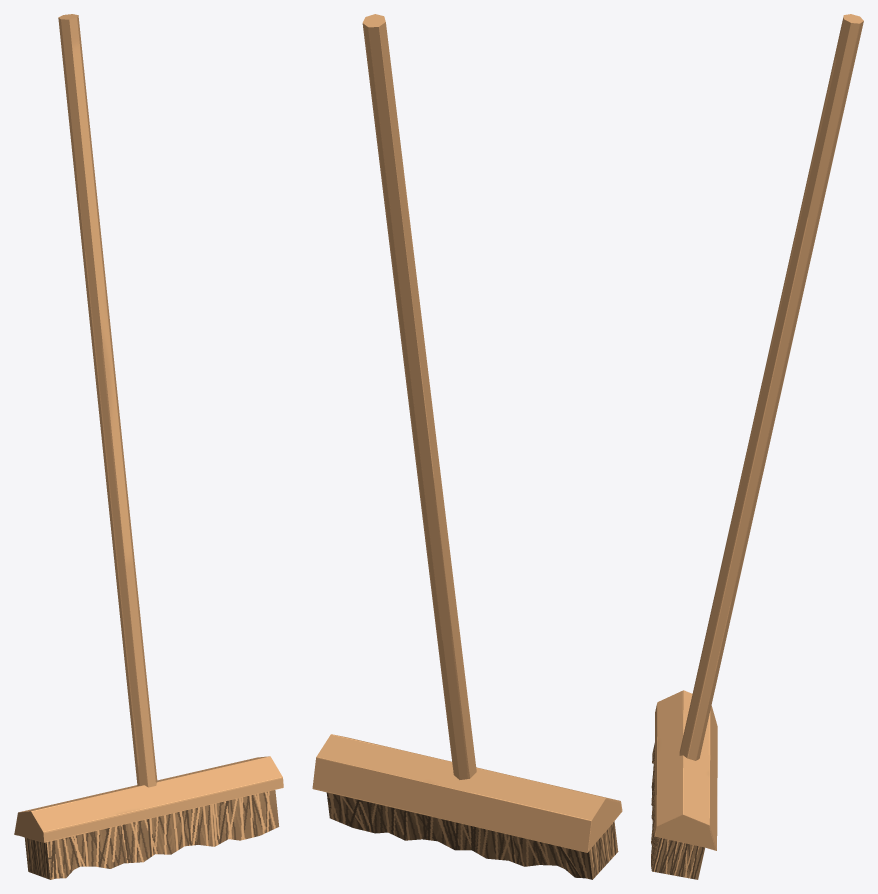
File: broom.fbx
3 renders of one model, left to right at view 1: azimuth 30°, elevation 25°; view 2: azimuth 150°, elevation 25°; view 3: azimuth 270°, elevation 25°, orthographic. The views are drawn at different scales.
Parts seen in each view (by area): view 1: Cube; view 2: Cube; view 3: Cube.
Part boxes in pixels (bbox=[...]): Cube: bbox=[14, 14, 283, 879]; Cube: bbox=[312, 14, 622, 879]; Cube: bbox=[651, 14, 863, 879].
Size of the model in its own units: 59.17 by 184 by 43.85.
